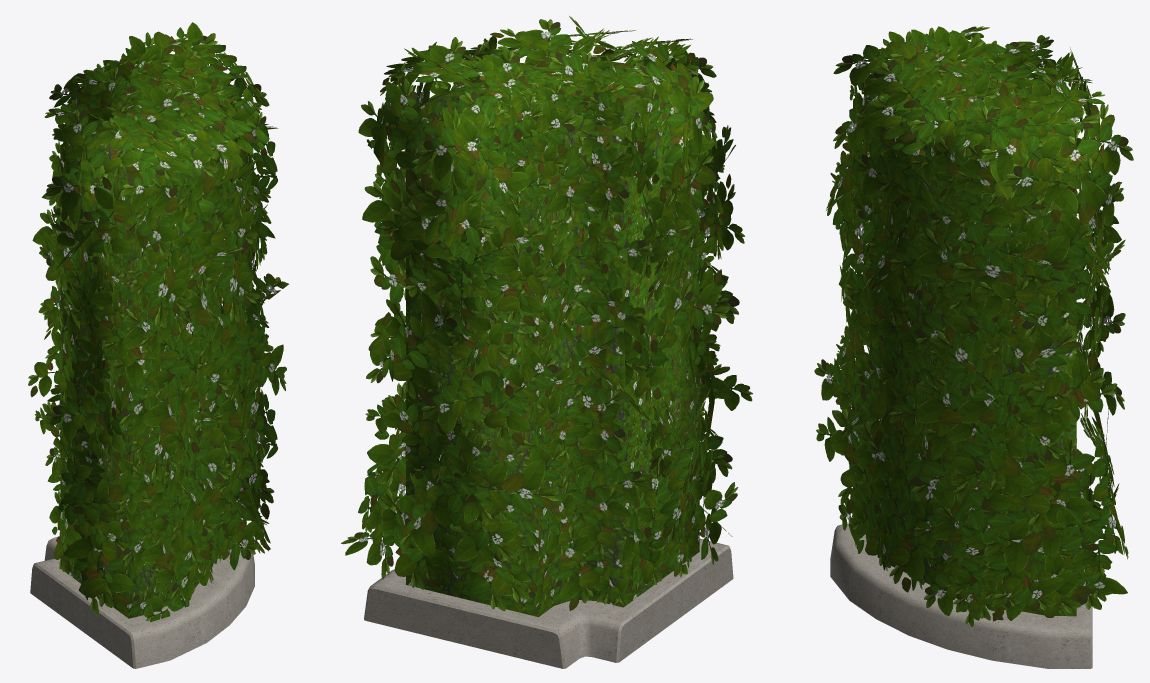
File: hedge_03_corner.FBX
3 renders of one model, left to right at view 1: azimuth 30°, elevation 25°; view 2: azimuth 150°, elevation 25°; view 3: azimuth 270°, elevation 25°, orthographic. The views are drawn at different scales.
Visible parts, largest first — view 1: hedge_03_corner; view 2: hedge_03_corner; view 3: hedge_03_corner.
Part boxes in pixels (box(x1,y1,x2,y2)): hedge_03_corner: box(28, 22, 288, 668); hedge_03_corner: box(341, 16, 752, 668); hedge_03_corner: box(814, 26, 1133, 668).
Size of the model in its own units: 115 by 211 by 111.
